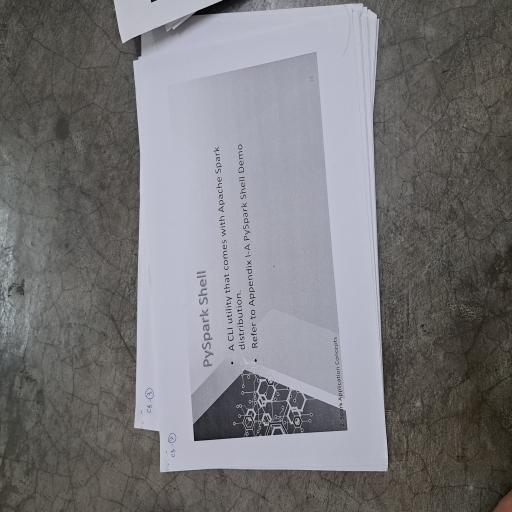paper: (29, 142, 384, 512)
